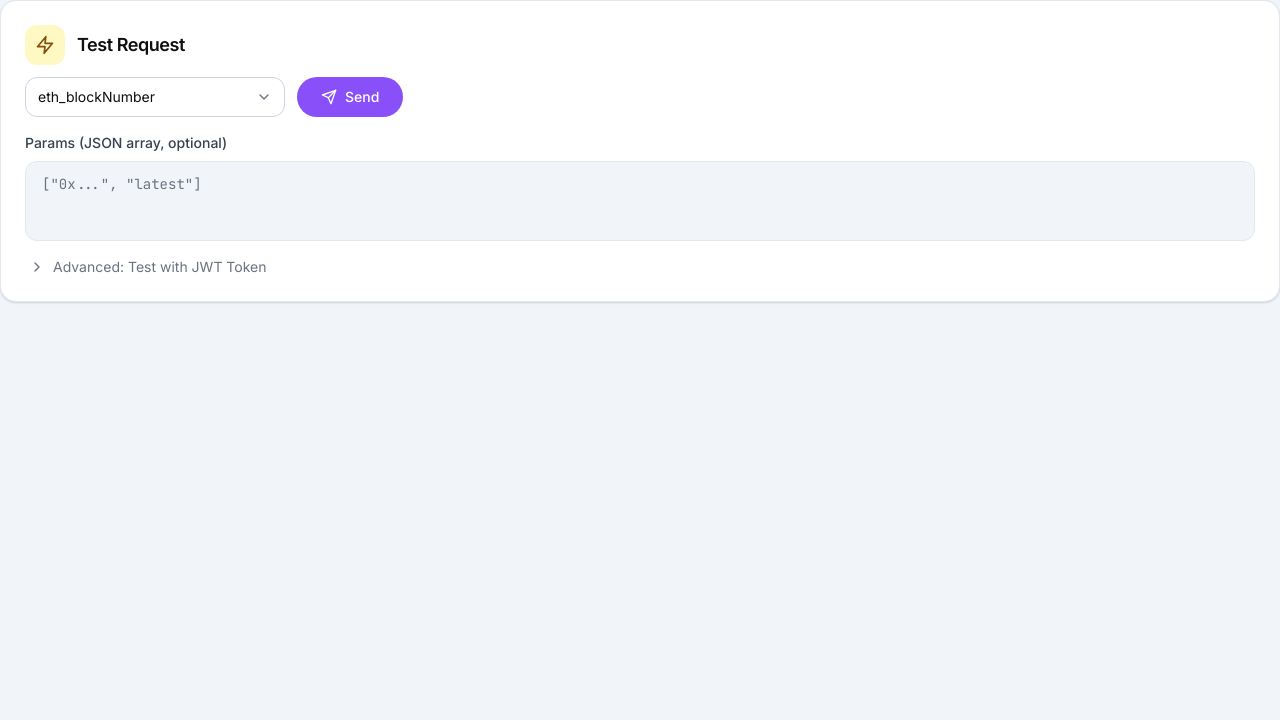
Test: TestRequestPanel › Method selection › selecting an ERC20 method shows contract address input
The image size is (1280, 720).
What coordinates should you click on to do the following:
click the dropdown
I would click on:
 (155, 97)
Its box is top-left (25, 77), bottom-right (285, 117).
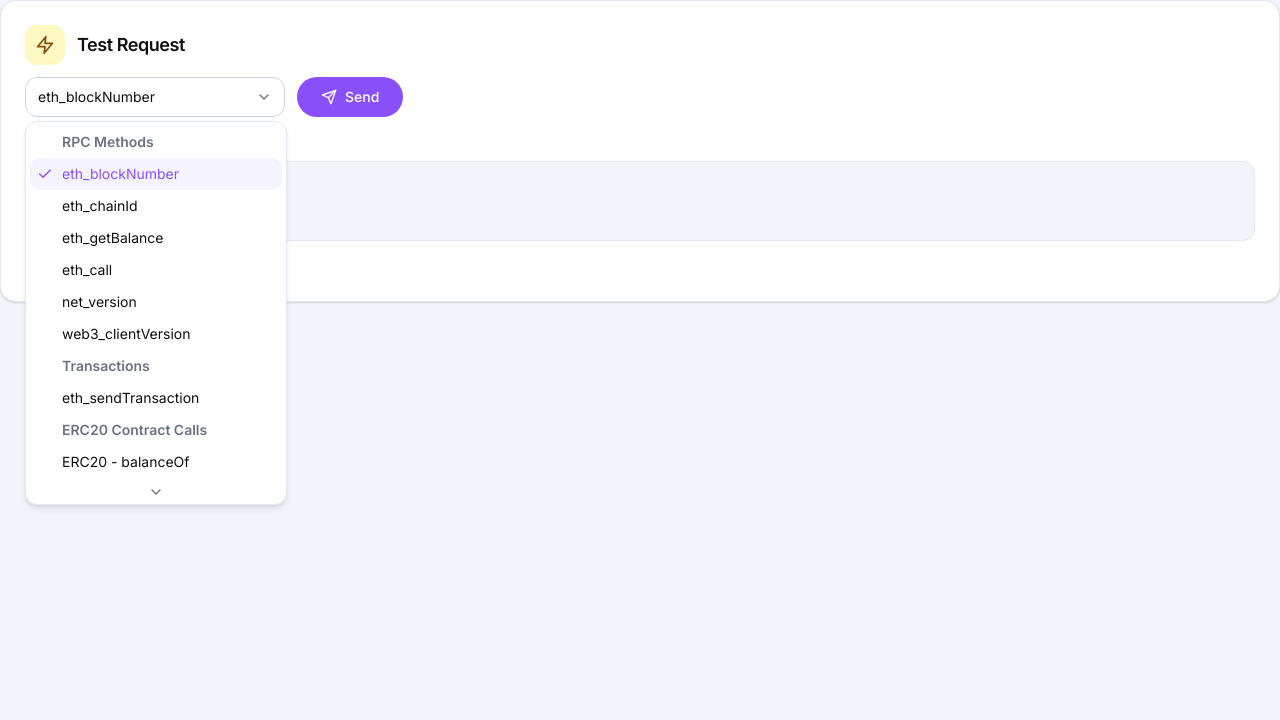
What coordinates should you click on to do the following:
click the option "ERC20 - balanceOf"
I would click on:
 (126, 462)
Its box is top-left (62, 453), bottom-right (190, 470).
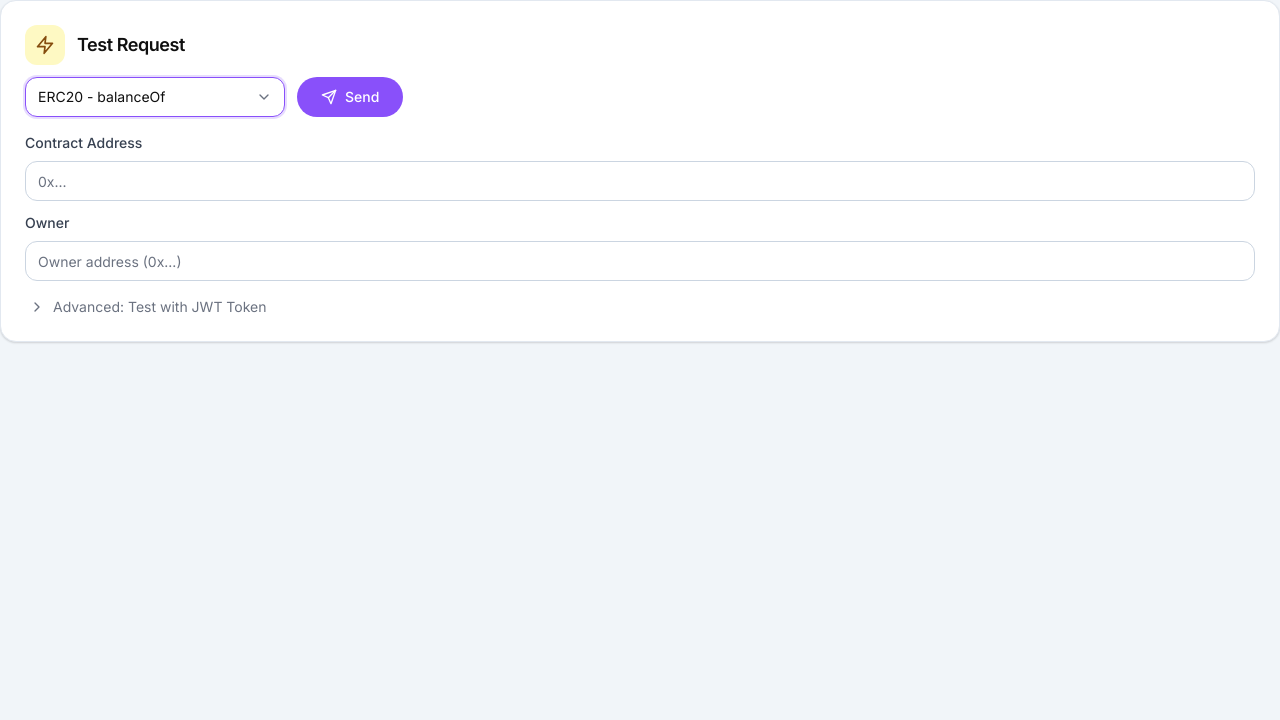
Now the text "Contract Address" is shown, box top-left (25, 134), bottom-right (142, 151)
Now the field with placeholder "0x..." is shown, box top-left (25, 161), bottom-right (1255, 201)
